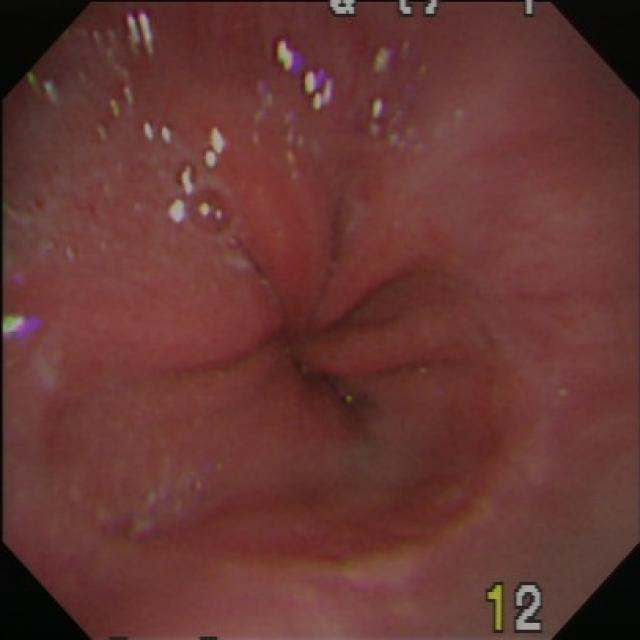I: (157, 196, 478, 490)
S: (485, 581, 547, 636), (325, 3, 545, 18)
T: (190, 186, 246, 258), (91, 81, 139, 150), (39, 235, 80, 268)
U: (273, 37, 334, 112), (368, 97, 423, 150), (168, 164, 198, 225), (125, 10, 158, 59), (26, 70, 66, 107), (4, 314, 45, 347), (202, 125, 229, 171), (371, 40, 394, 78), (143, 121, 176, 145)
